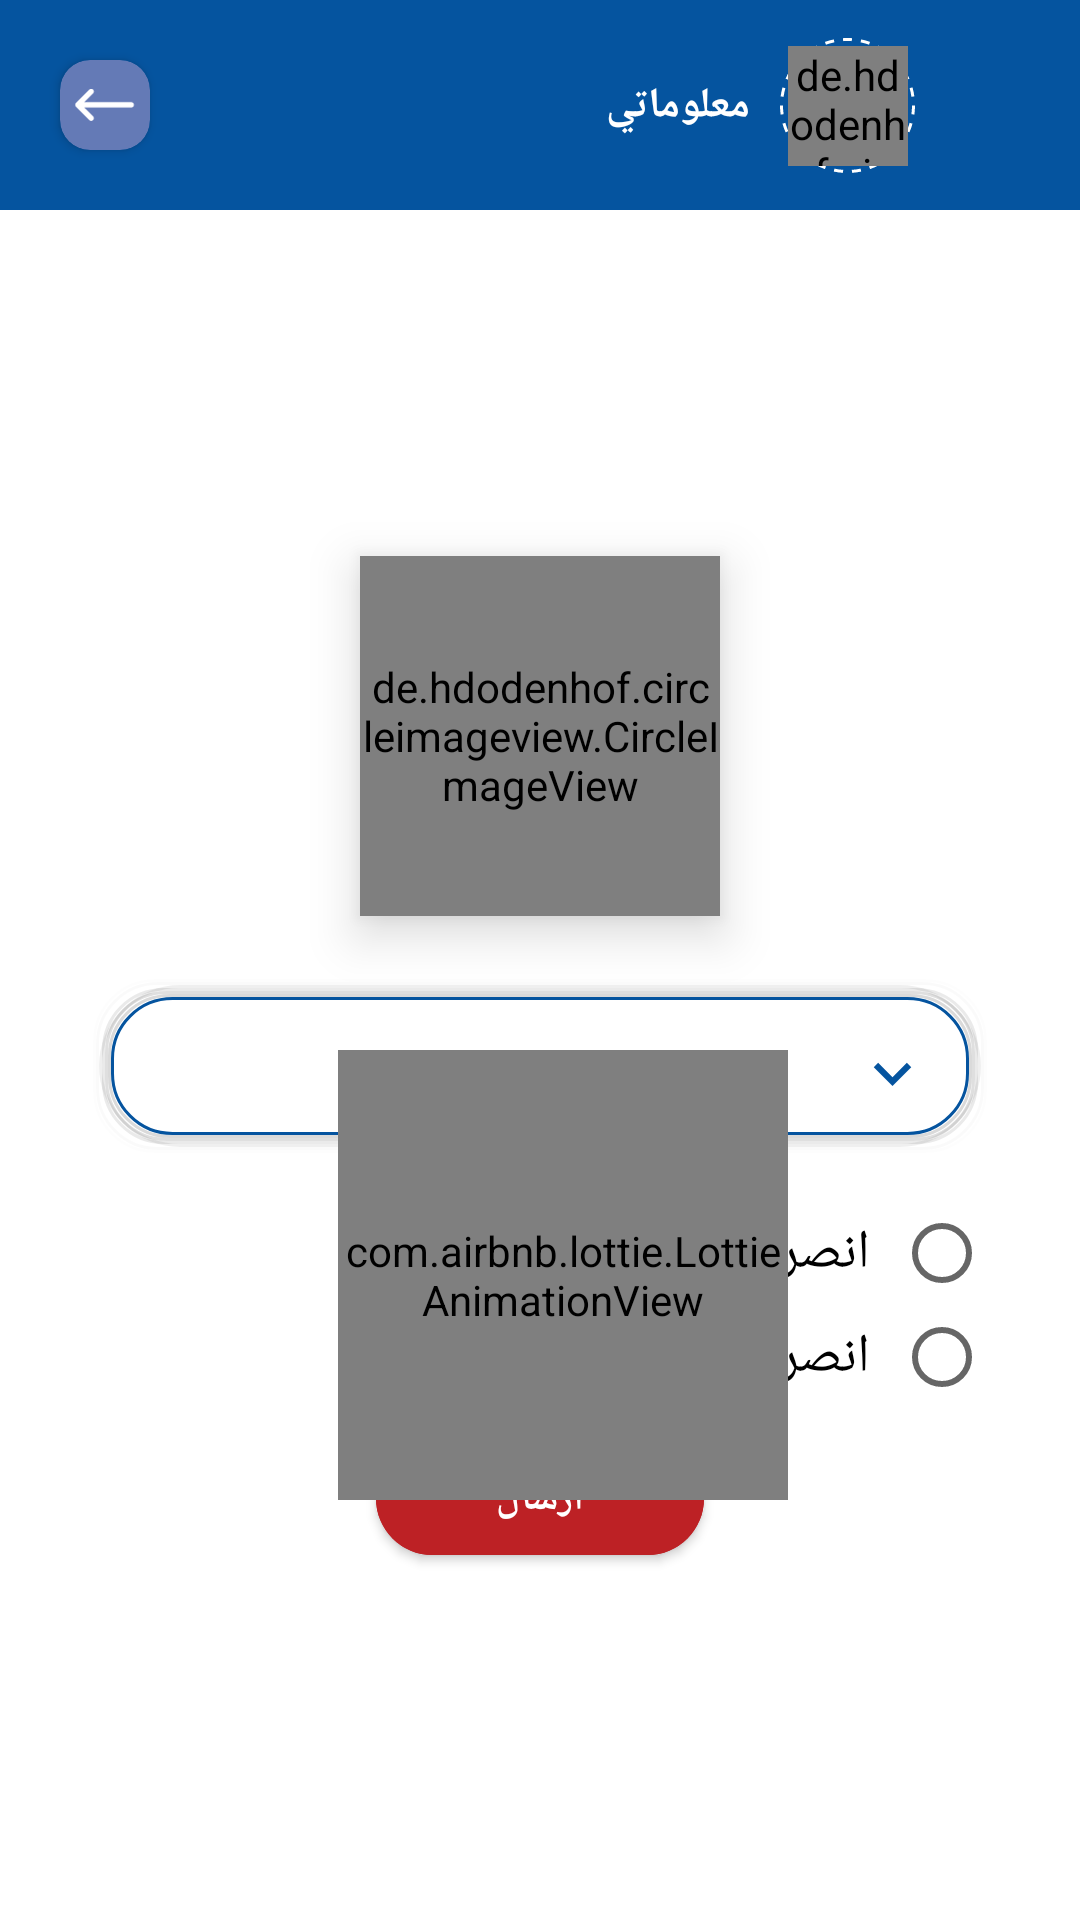

Icons on this 1080px x 1920px Android screen, each with the point to tap as (x=x, y=y):
arraw: (x=105, y=105)
down arrow: (x=892, y=1074)
